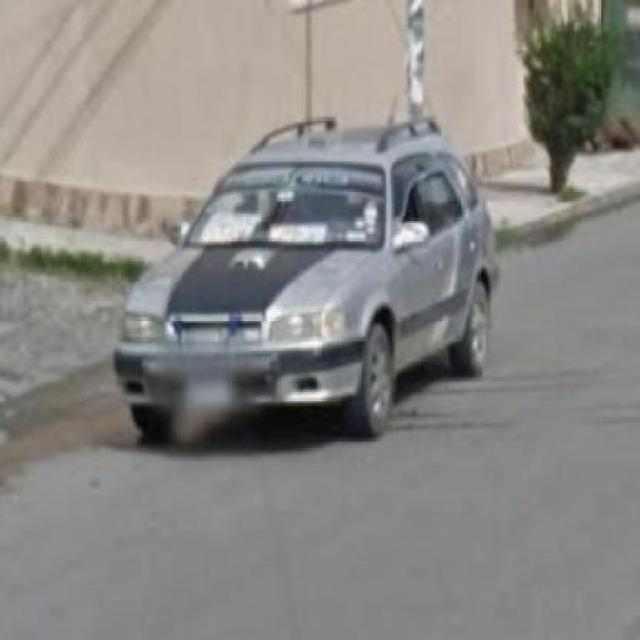car: (117, 116, 500, 442)
